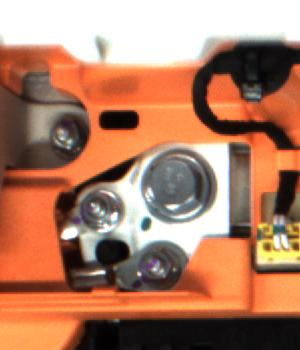nut_b: (135, 148, 224, 224)
